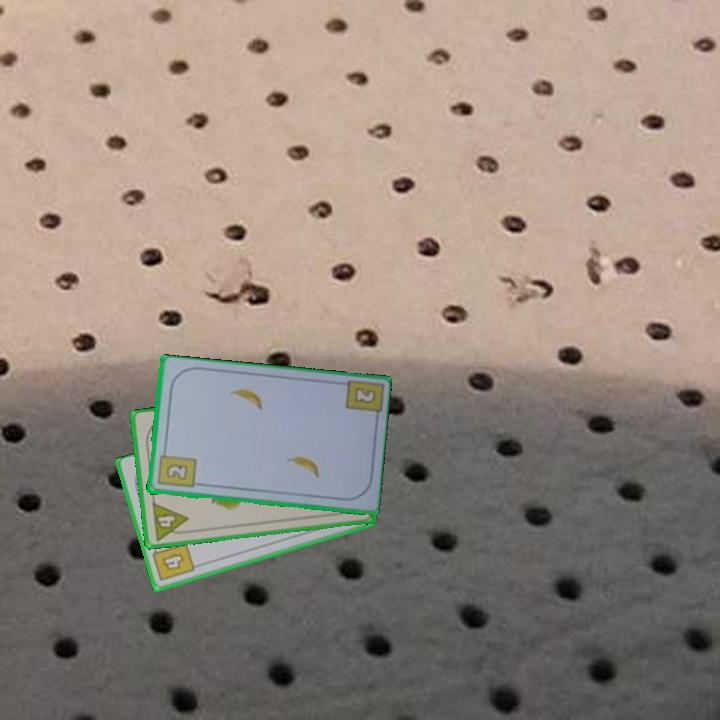2b: (154, 446, 198, 491), (350, 384, 379, 406)
4b: (149, 540, 198, 584)
4p: (148, 499, 192, 543)
